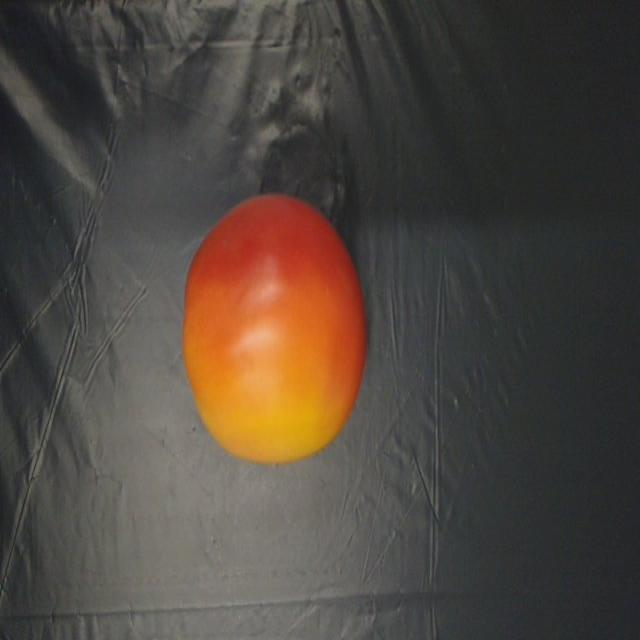sari: (180, 177, 376, 482)
